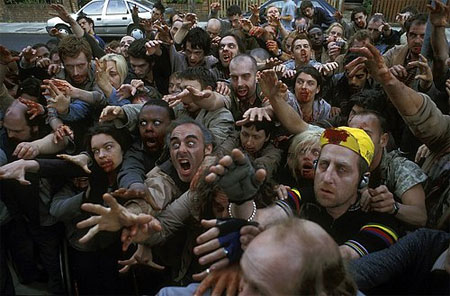-: (164, 121, 211, 181), (85, 131, 126, 174)
